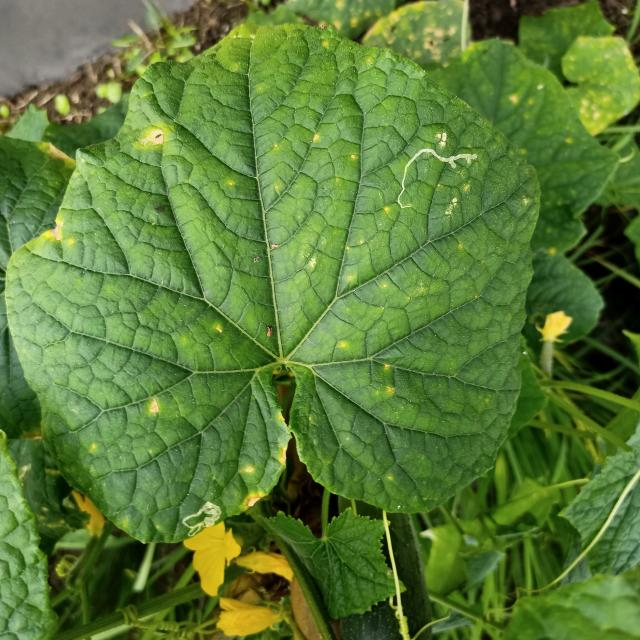disease_cucumber: (236, 462, 266, 508), (136, 122, 167, 150), (41, 219, 72, 247), (375, 357, 396, 396), (146, 397, 163, 414)
